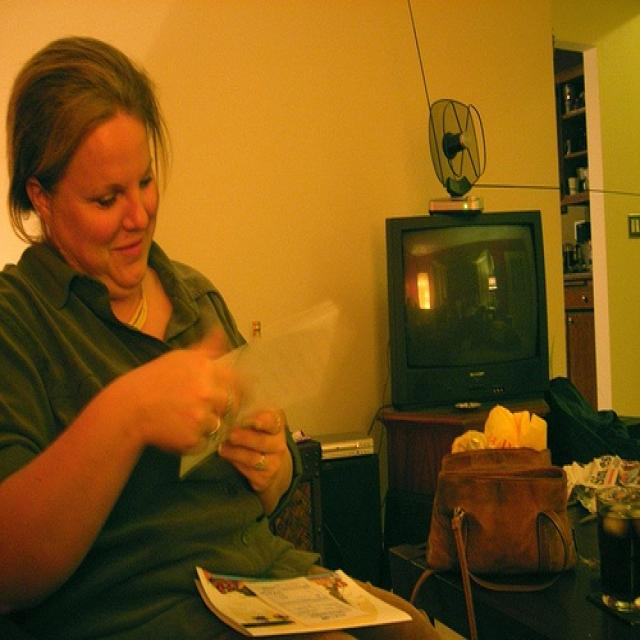tvmonitor: (383, 206, 553, 408)
